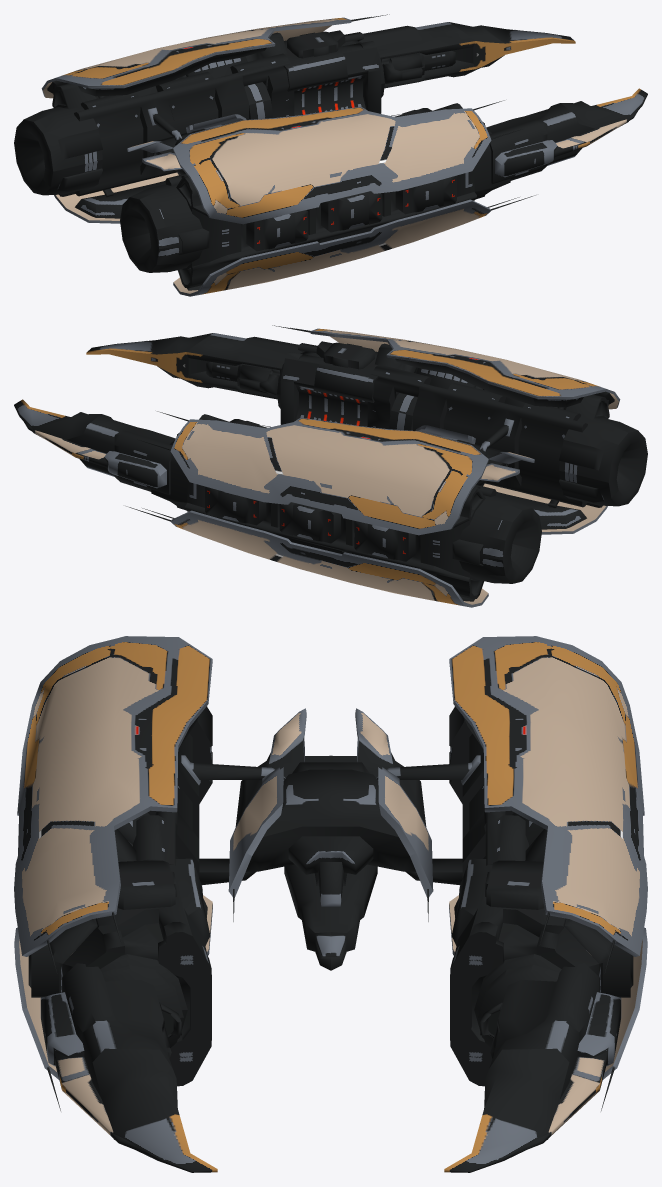
File: executioner.glb
3 renders of one model, top to bottom at view 1: azimuth 30°, elevation 25°; view 2: azimuth 150°, elevation 25°; view 3: azimuth 270°, elevation 25°, orthographic. The views are drawn at different scales.
Parts seen in each view (by area): view 1: Executioner; view 2: Executioner; view 3: Executioner.
Boxes of the visible parts, x1,y1,x2,y2 form: Executioner: [14, 14, 647, 296]; Executioner: [14, 325, 647, 607]; Executioner: [14, 636, 647, 1172].
Size of the model in its own units: 71.69 by 18.77 by 41.87.
Materials: 1 (1 with a texture image).
